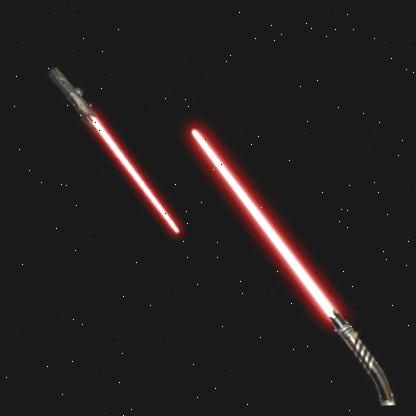sith_lightsaber: (173, 119, 410, 406), (35, 58, 193, 242)
